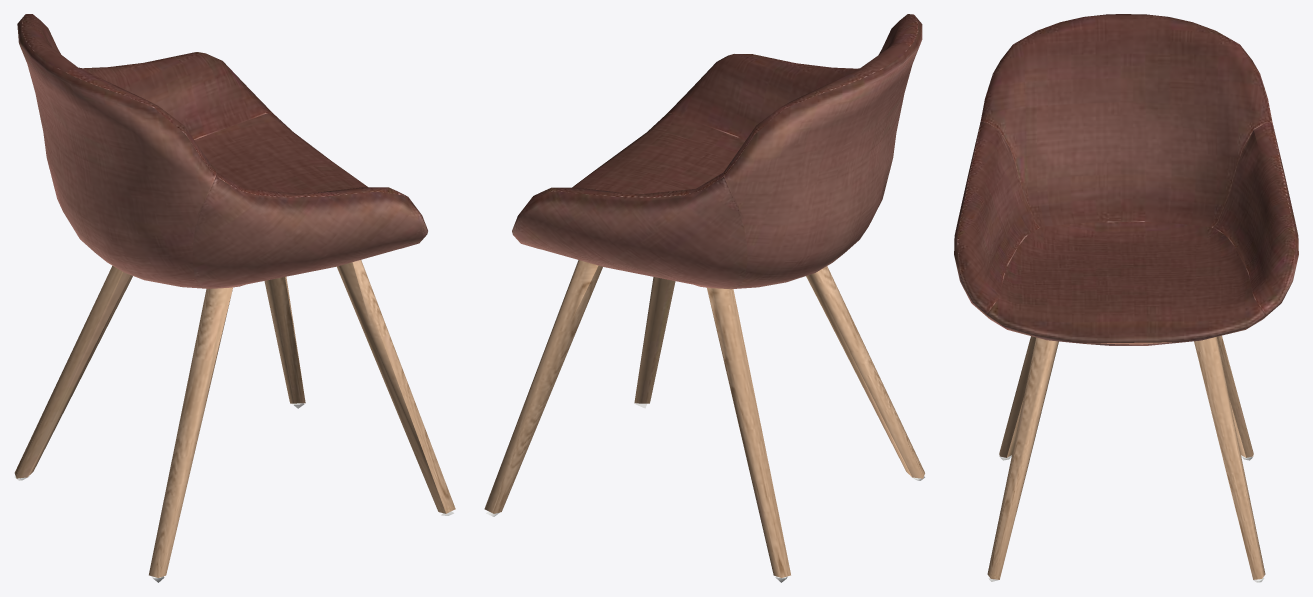
File: Chair0009.obj
3 renders of one model, left to right at view 1: azimuth 30°, elevation 25°; view 2: azimuth 150°, elevation 25°; view 3: azimuth 270°, elevation 25°, orthographic. The views are drawn at different scales.
Bounding box in the file's own units: 0.702 × 0.965 × 0.702.
Materials: 1 (1 with a texture image).
